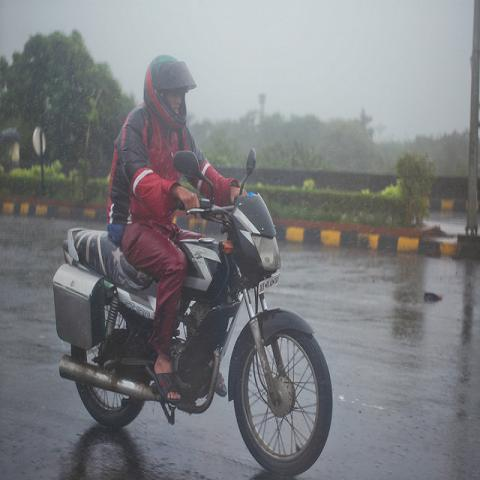motorcycle: (54, 144, 336, 474)
